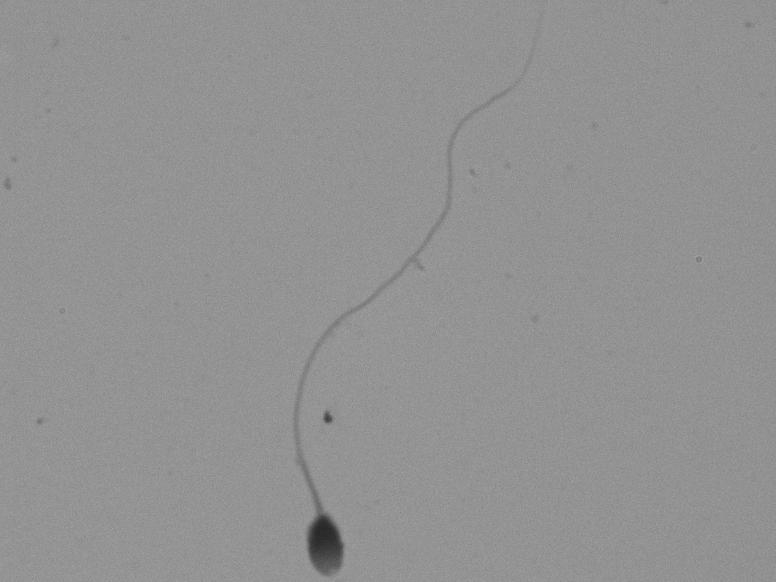Normal: (238, 25, 563, 578)
